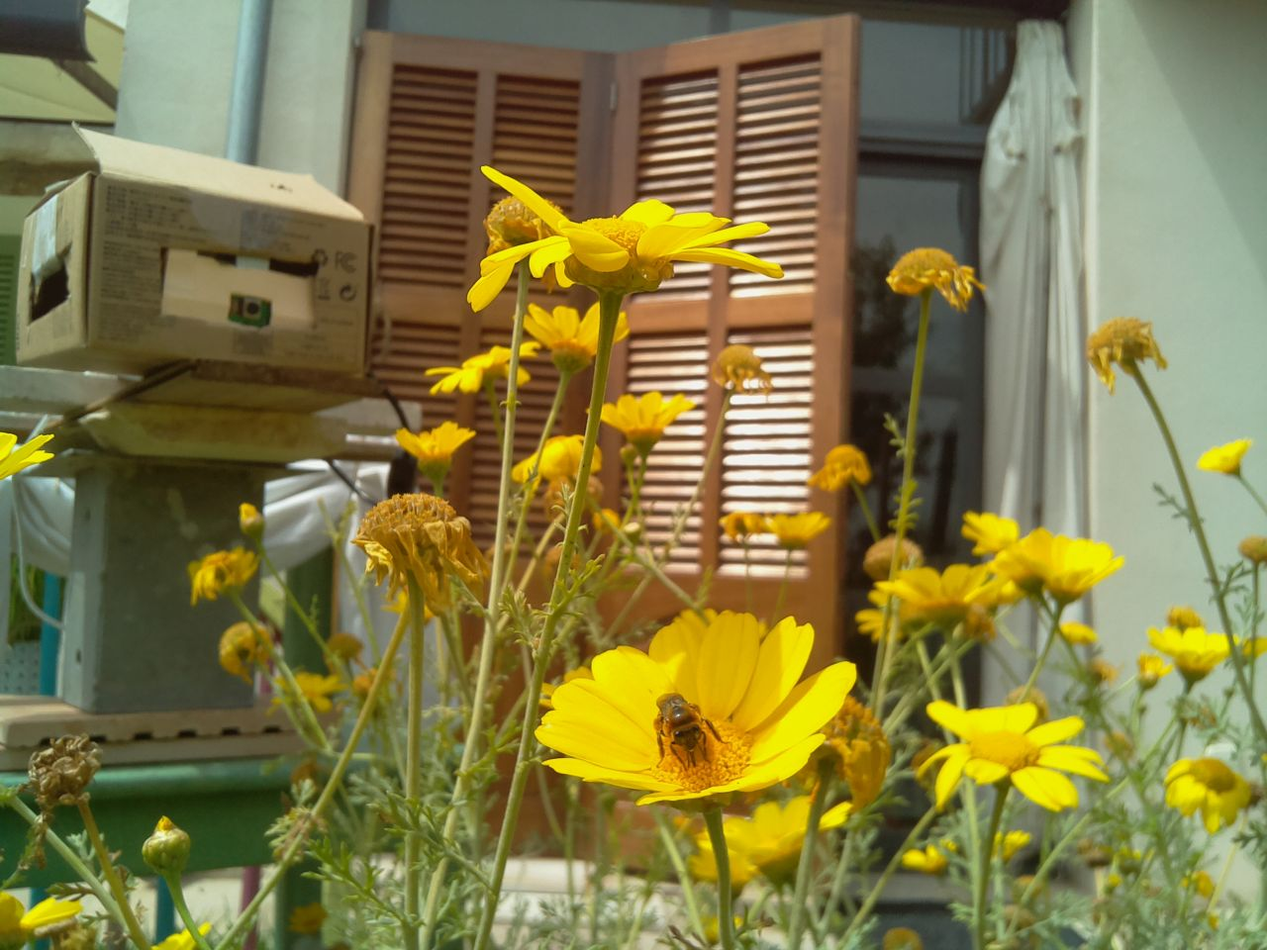Eucera: (644, 689, 733, 769)
